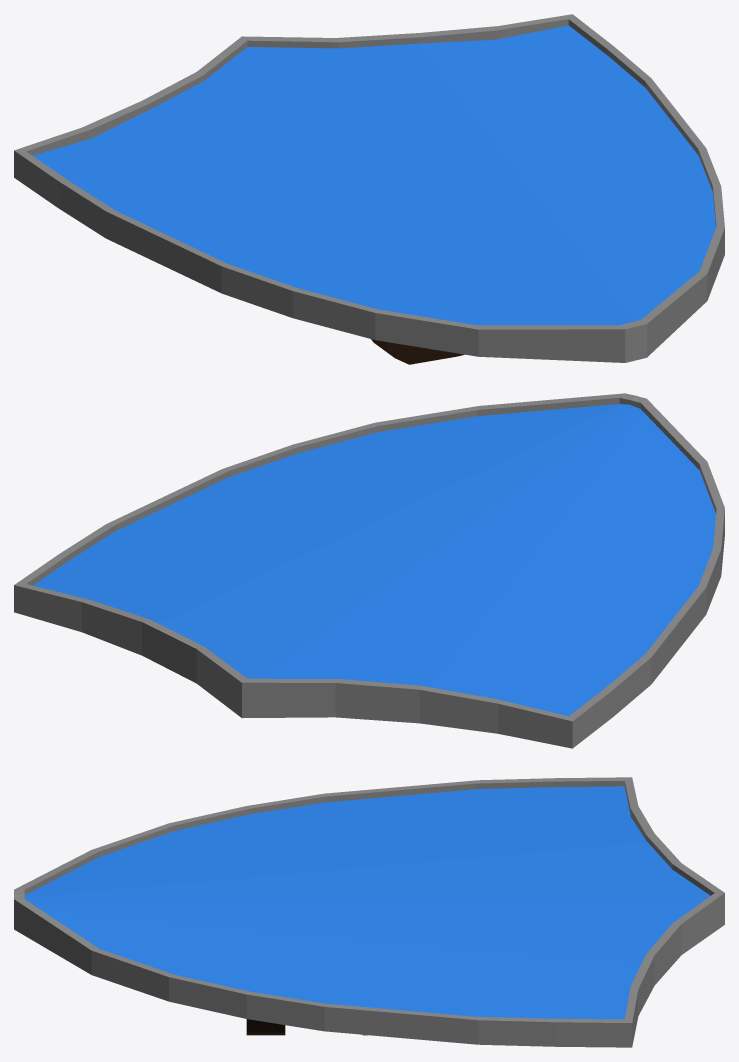
Rendered from Escudo3D.fbx.
3 renders of one model, top to bottom at view 1: azimuth 30°, elevation 25°; view 2: azimuth 150°, elevation 25°; view 3: azimuth 270°, elevation 25°, orthographic. The views are drawn at different scales.
Parts seen in each view (by area): view 1: Escudo; view 2: Escudo; view 3: Escudo.
Part boxes in pixels (bbox=[...]): Escudo: bbox=[14, 14, 724, 364]; Escudo: bbox=[14, 393, 724, 748]; Escudo: bbox=[14, 777, 724, 1047].
Size of the model in its own units: 384 by 74.83 by 469.
1 material, 1 textured.
